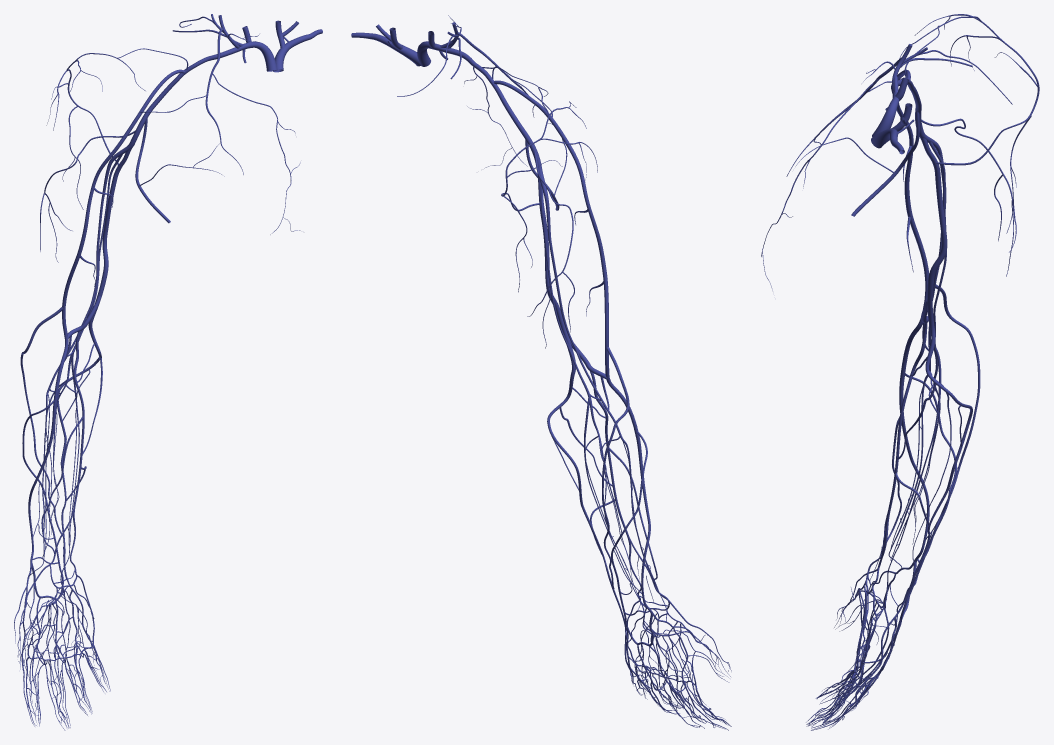
Rendered from aligned-upper-limb-venous-01.glb.
3 views of the same model, side by side, from view 1: azimuth 30°, elevation 25°; view 2: azimuth 150°, elevation 25°; view 3: azimuth 270°, elevation 25° (orthographic). The views are drawn at different scales.
Visible parts, largest first — view 1: O3D_8223300a0f2008, O3D_5f168d76fc5a0d, O3D_b525419755cb57, O3D_c0dcbe5b6781bd, O3D_853ead97df275f, O3D_2577c99ed019f6, O3D_80474bc8d80b35, O3D_46d745569f6bd4, O3D_0f04002337fc95, O3D_56c072a7fd7135, O3D_d04ee624dabbed, O3D_2b4a25ae6baffd (+4 smaller); view 2: O3D_8223300a0f2008, O3D_5f168d76fc5a0d, O3D_b525419755cb57, O3D_c0dcbe5b6781bd, O3D_56c072a7fd7135, O3D_2577c99ed019f6, O3D_853ead97df275f, O3D_d04ee624dabbed, O3D_46d745569f6bd4, O3D_80474bc8d80b35, O3D_c29e2a11b91fa7, O3D_0f04002337fc95 (+1 smaller); view 3: O3D_8223300a0f2008, O3D_c0dcbe5b6781bd, O3D_5f168d76fc5a0d, O3D_853ead97df275f, O3D_b525419755cb57, O3D_46d745569f6bd4, O3D_2577c99ed019f6, O3D_0f04002337fc95, O3D_2b4a25ae6baffd, O3D_80474bc8d80b35, O3D_56c072a7fd7135, O3D_aef43a88aa2182 (+4 smaller).
Part boxes in pixels (<box>): O3D_8223300a0f2008: <box>20,48,188,553</box>; O3D_5f168d76fc5a0d: <box>28,69,185,546</box>; O3D_b525419755cb57: <box>206,20,322,72</box>; O3D_c0dcbe5b6781bd: <box>57,179,116,551</box>; O3D_853ead97df275f: <box>140,14,300,234</box>; O3D_2577c99ed019f6: <box>21,547,94,660</box>; O3D_80474bc8d80b35: <box>22,595,109,727</box>; O3D_46d745569f6bd4: <box>14,620,106,730</box>; O3D_0f04002337fc95: <box>17,619,110,727</box>; O3D_56c072a7fd7135: <box>67,154,122,356</box>; O3D_d04ee624dabbed: <box>108,57,206,179</box>; O3D_2b4a25ae6baffd: <box>54,330,84,555</box>; O3D_8223300a0f2008: <box>492,66,657,604</box>; O3D_5f168d76fc5a0d: <box>493,80,650,601</box>; O3D_b525419755cb57: <box>351,24,476,66</box>; O3D_c0dcbe5b6781bd: <box>541,216,618,601</box>; O3D_56c072a7fd7135: <box>540,184,604,403</box>; O3D_2577c99ed019f6: <box>626,575,711,691</box>; O3D_853ead97df275f: <box>397,15,552,168</box>; O3D_d04ee624dabbed: <box>474,63,548,216</box>; O3D_46d745569f6bd4: <box>626,648,729,730</box>; O3D_80474bc8d80b35: <box>634,629,729,725</box>; O3D_c29e2a11b91fa7: <box>624,626,708,686</box>; O3D_0f04002337fc95: <box>635,635,731,726</box>; O3D_8223300a0f2008: <box>882,14,1039,574</box>; O3D_c0dcbe5b6781bd: <box>912,174,972,578</box>; O3D_5f168d76fc5a0d: <box>896,69,929,548</box>; O3D_853ead97df275f: <box>761,44,1012,290</box>; O3D_b525419755cb57: <box>871,76,914,154</box>; O3D_46d745569f6bd4: <box>811,586,888,730</box>; O3D_2577c99ed019f6: <box>852,546,882,679</box>; O3D_0f04002337fc95: <box>806,581,870,726</box>; O3D_2b4a25ae6baffd: <box>880,323,927,560</box>; O3D_80474bc8d80b35: <box>807,593,886,727</box>; O3D_56c072a7fd7135: <box>928,142,946,349</box>; O3D_aef43a88aa2182: <box>888,347,935,569</box>.
Size of the model in its own units: 0.4048 by 0.7533 by 0.2368.
